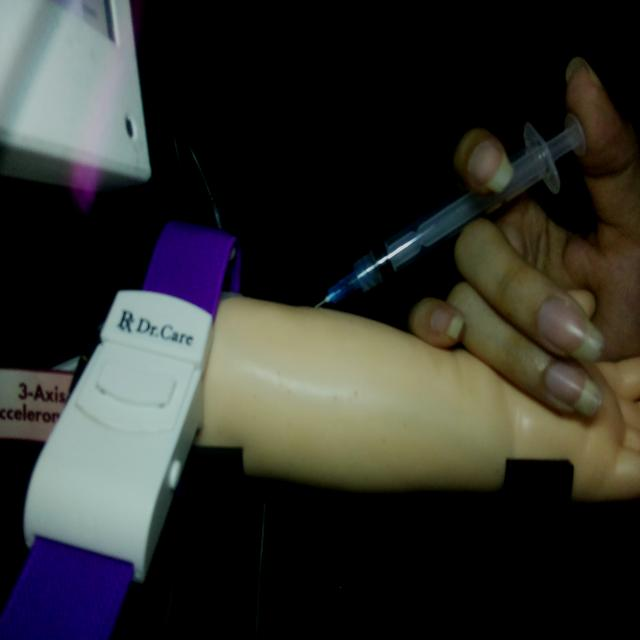22 degrees: (313, 110, 587, 310)
